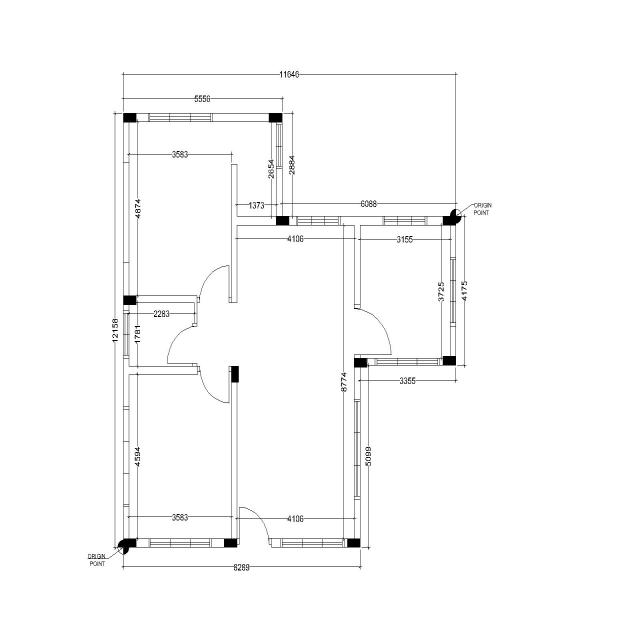Column: (269, 113, 282, 123), (276, 216, 289, 226), (443, 356, 456, 366), (354, 358, 367, 368), (347, 538, 360, 548), (224, 538, 237, 548), (231, 366, 239, 382), (124, 538, 136, 548), (124, 295, 136, 305), (443, 216, 456, 225), (124, 113, 136, 122)
Door: (352, 304, 392, 358), (195, 263, 233, 305), (236, 506, 272, 548), (166, 322, 198, 368), (196, 366, 233, 405)
Window: (352, 398, 362, 501), (148, 537, 213, 549), (147, 112, 214, 123), (374, 357, 441, 367), (279, 538, 345, 548), (449, 256, 457, 328), (296, 216, 342, 227), (382, 216, 428, 227), (122, 309, 130, 360), (275, 122, 283, 170)
